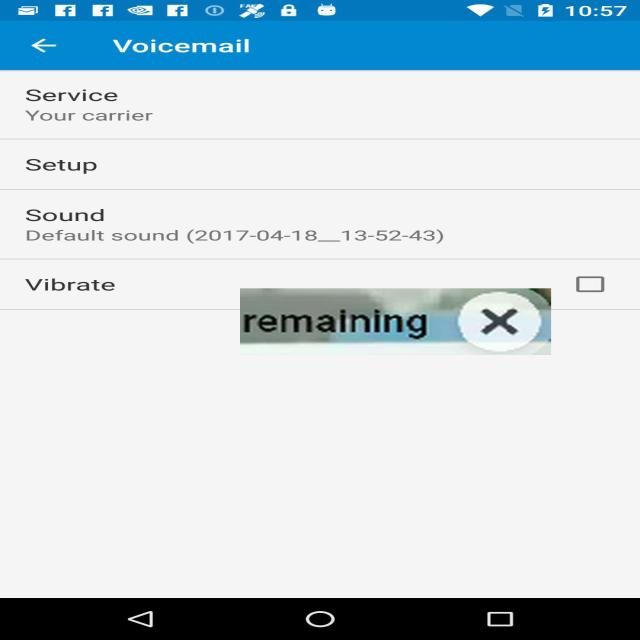misdirection: (240, 288, 551, 355)
